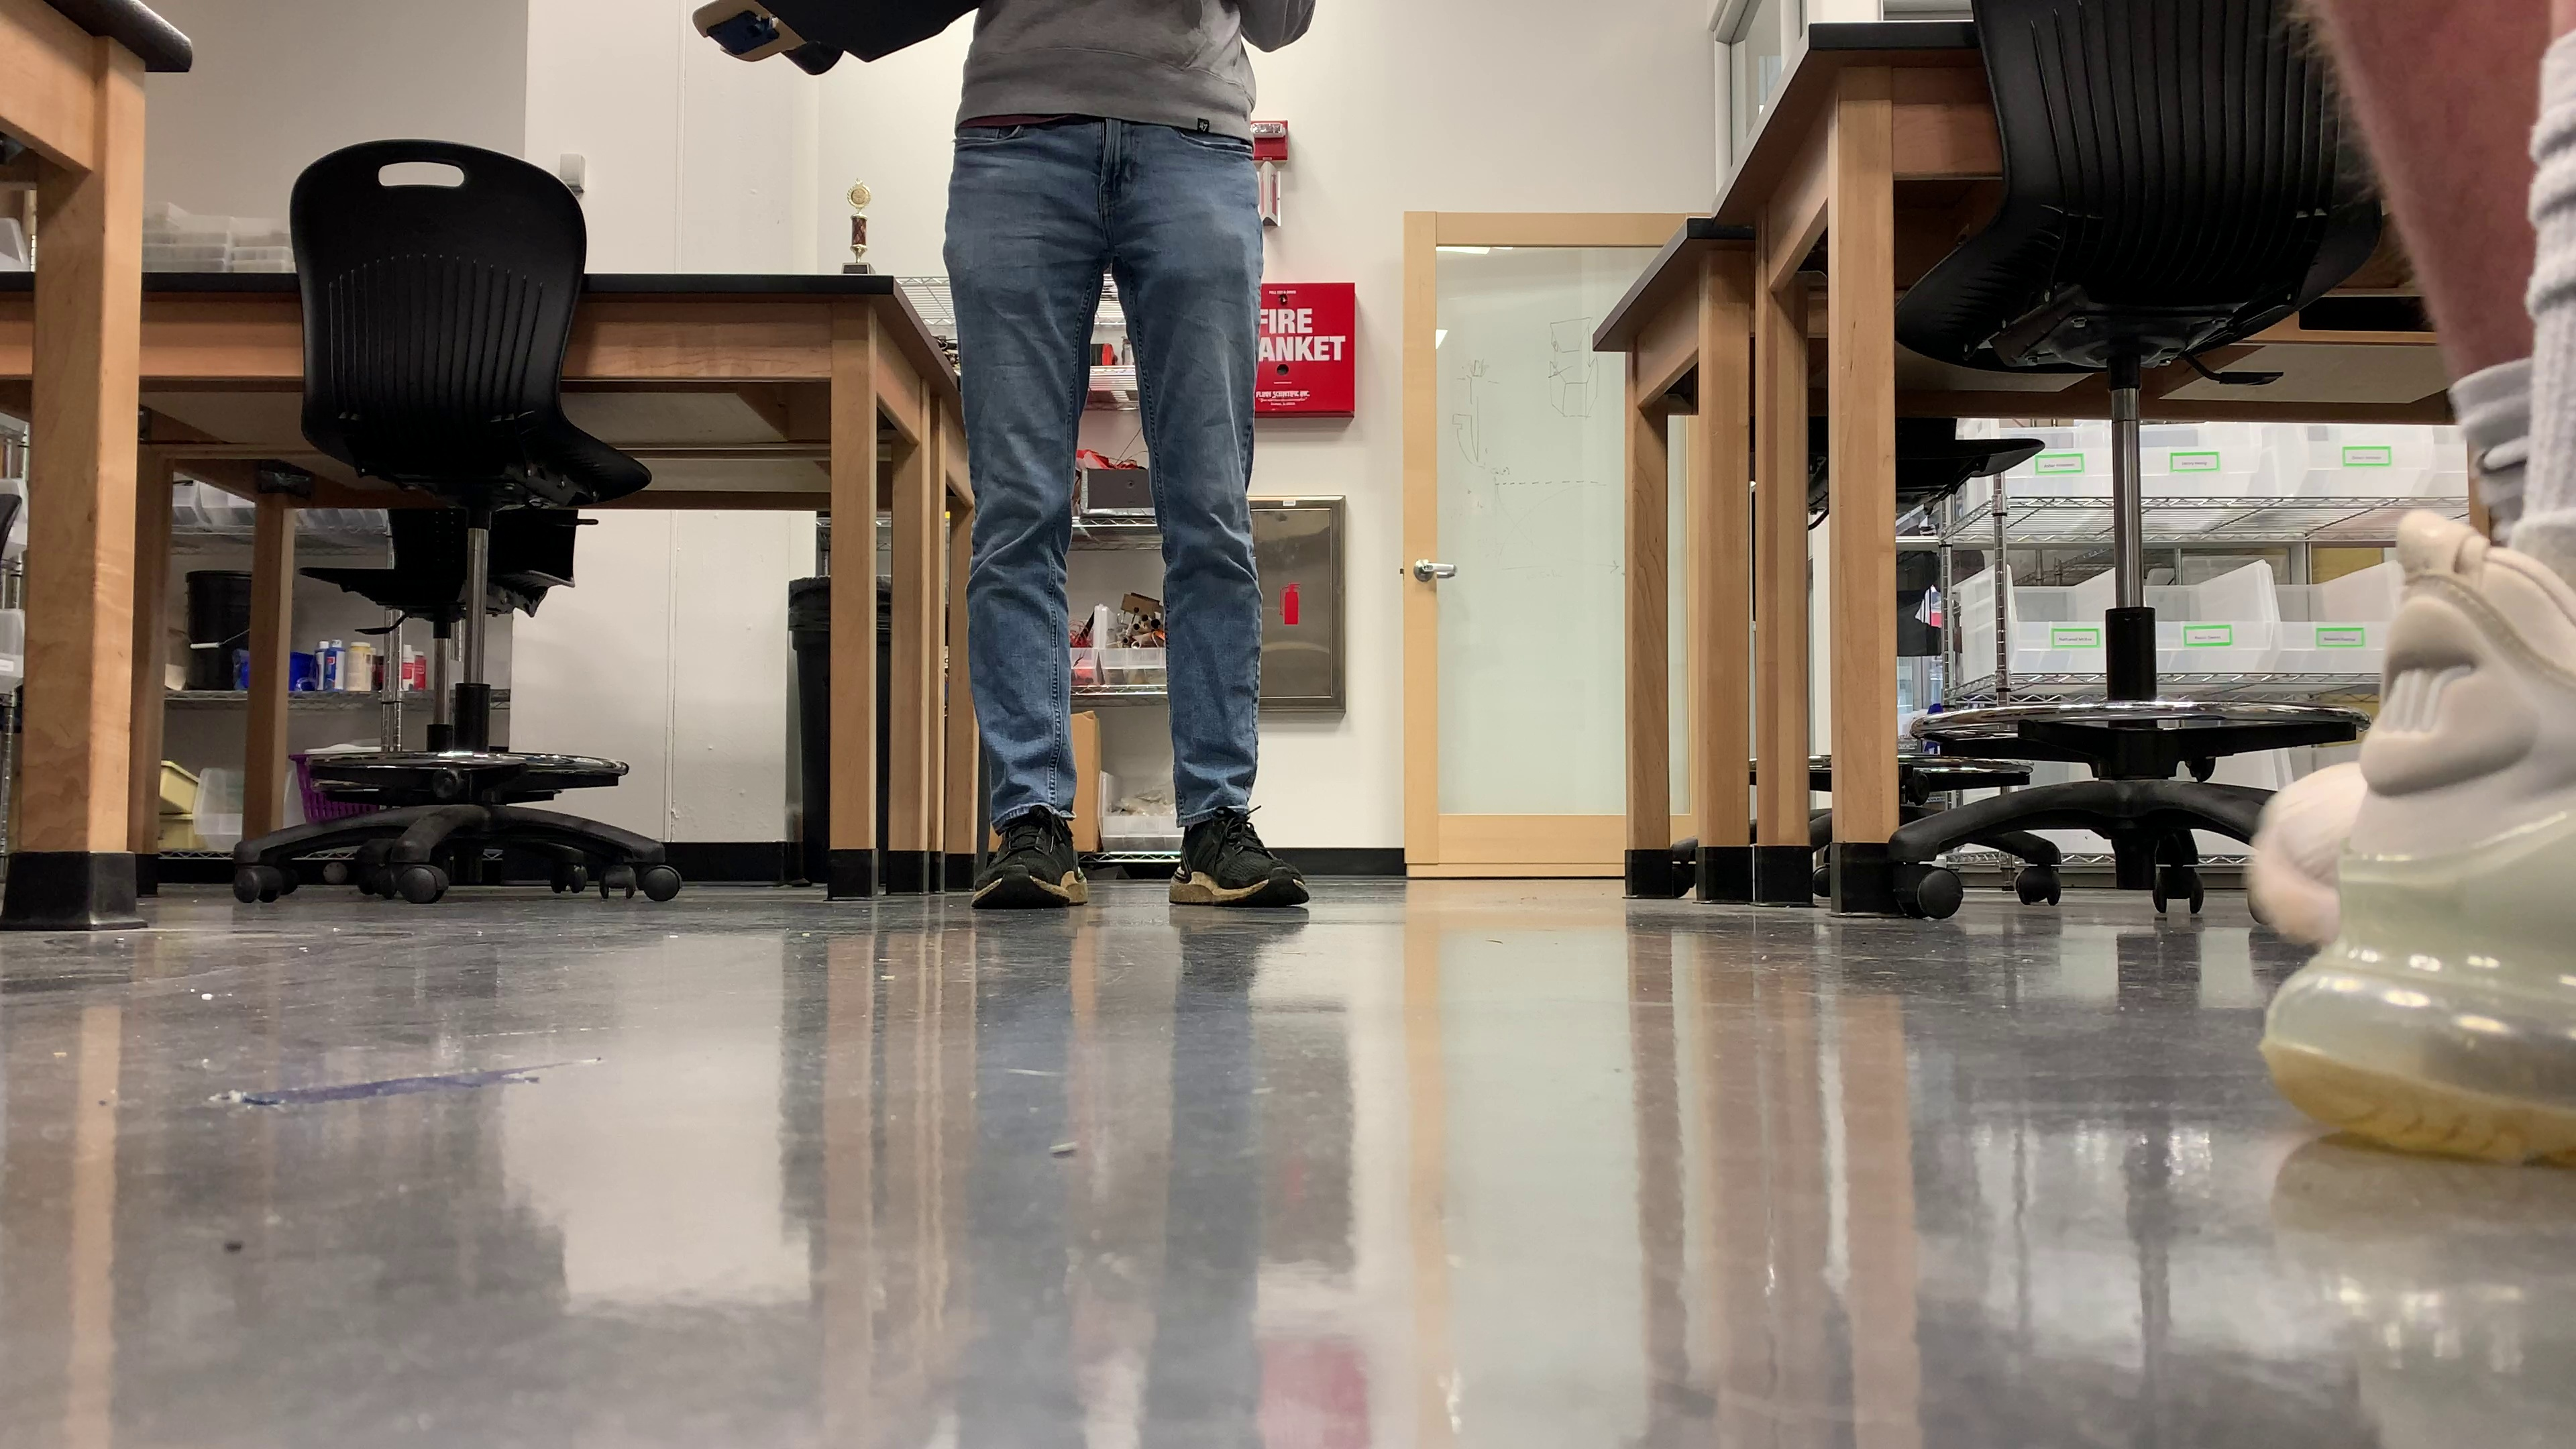shoe: (1166, 814, 1306, 906), (968, 807, 1088, 911)
